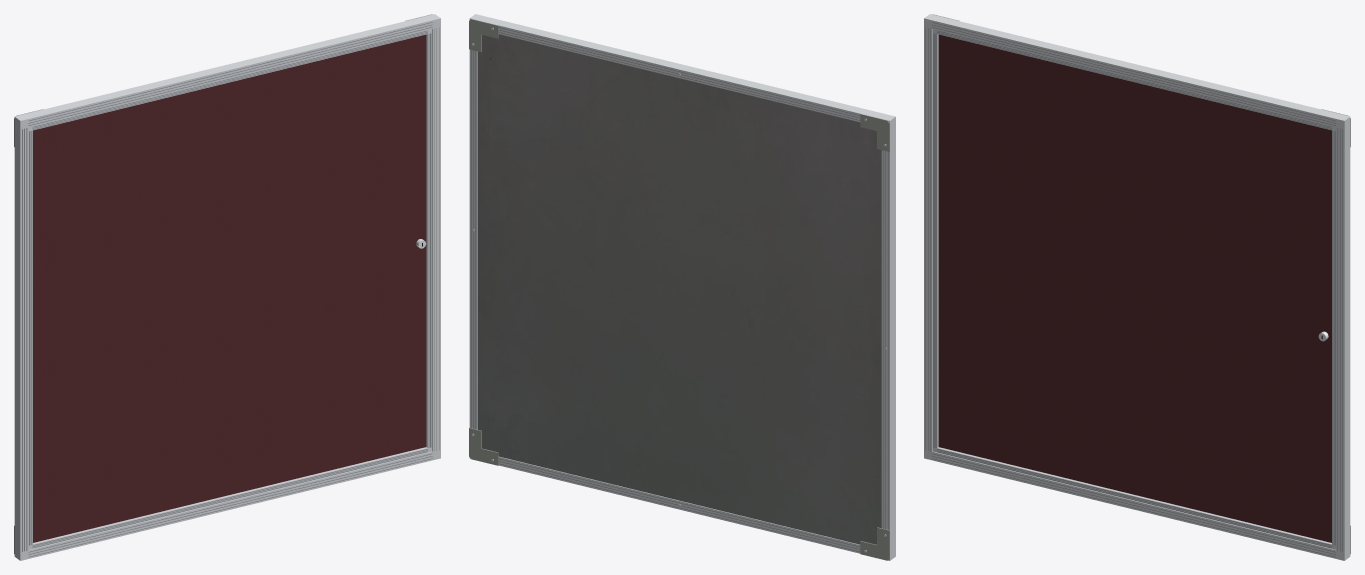
The model's file is eco-adc-notice-board-single-door.glb.
3 views of the same model, side by side, from view 1: azimuth 30°, elevation 25°; view 2: azimuth 150°, elevation 25°; view 3: azimuth 330°, elevation 25° (orthographic).
Parts seen in each view (by area): view 1: fabric-red, acrylic, aluminium, aluminium-dark; view 2: board-back, aluminium, aluminium-dark, back-plate; view 3: fabric-red, acrylic, aluminium, aluminium-dark.
Boxes of the visible parts, left/top/right/bottom form: fabric-red: left=33, top=34, right=426, bottom=542; acrylic: left=33, top=35, right=425, bottom=543; aluminium: left=14, top=14, right=440, bottom=560; aluminium-dark: left=22, top=22, right=439, bottom=557; board-back: left=478, top=34, right=881, bottom=544; aluminium: left=469, top=14, right=895, bottom=560; aluminium-dark: left=471, top=27, right=888, bottom=551; back-plate: left=469, top=19, right=889, bottom=560; fabric-red: left=938, top=34, right=1331, bottom=542; acrylic: left=939, top=35, right=1331, bottom=543; aluminium: left=924, top=14, right=1350, bottom=560; aluminium-dark: left=925, top=22, right=1342, bottom=557.
Bounding box in the file's own units: 1.22 × 1.22 × 0.0445.
9 materials, 2 textured.
